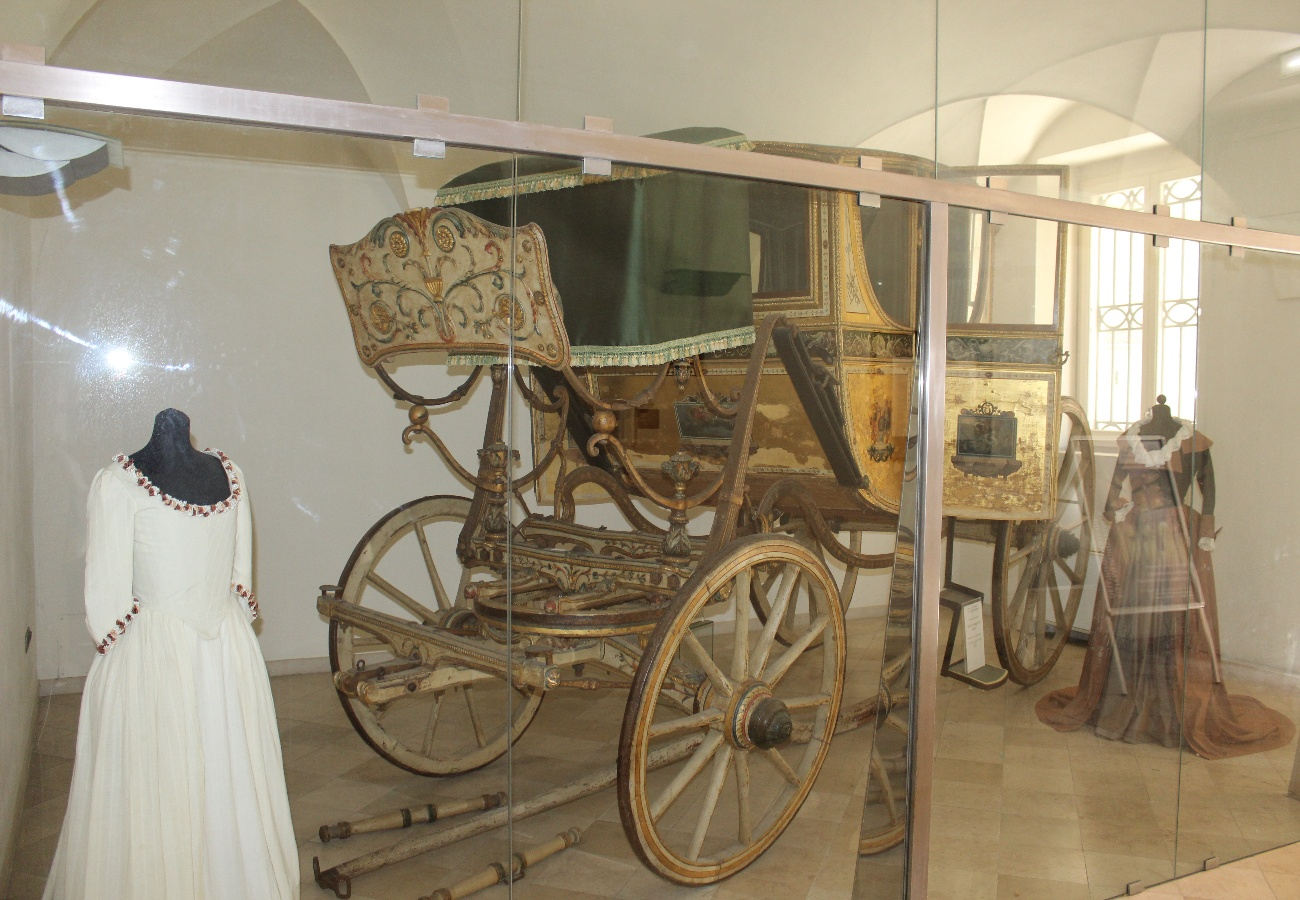Berlina Mosca: (298, 75, 1098, 877)
